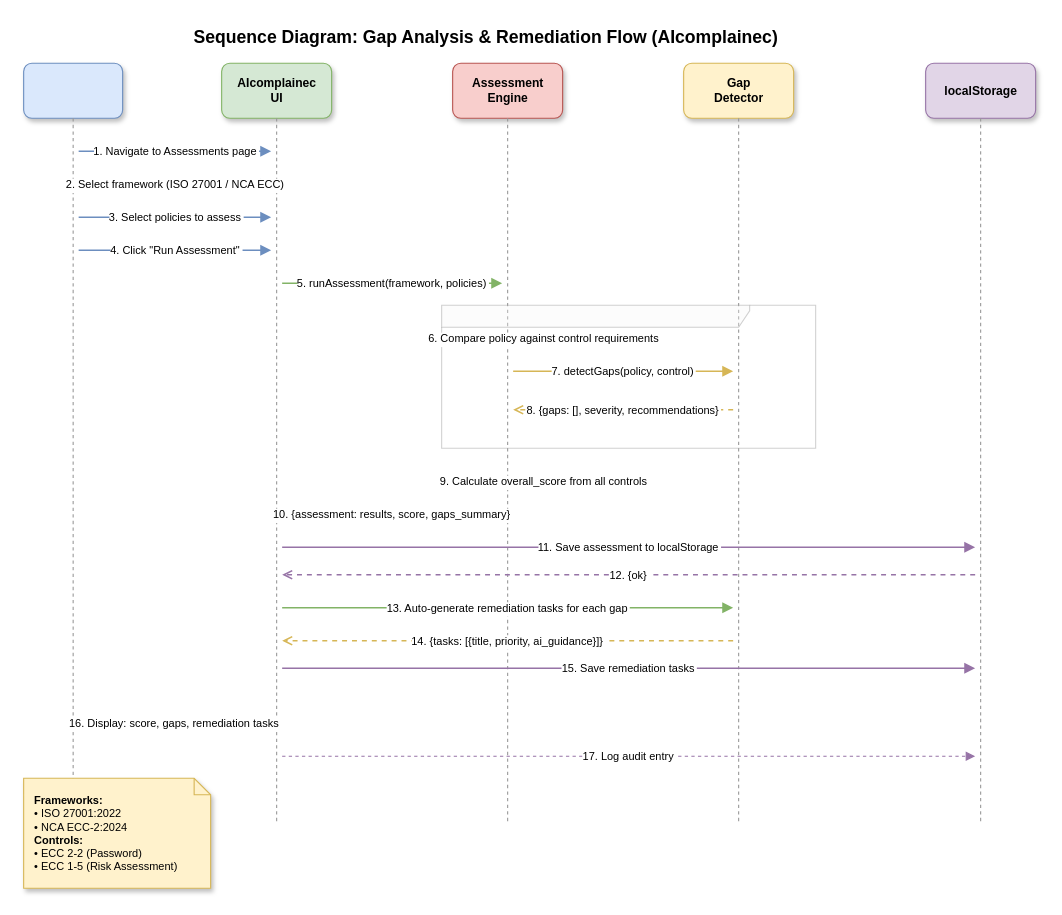
Image size: 1062x915. Some labels were removed from this diagram. The centre of each missing label's shape, as x and y in pixels:
"Compliance Officer" goes at pixel 73 92.
"loop [for each ECC control in framework]" goes at pixel 628 376.
